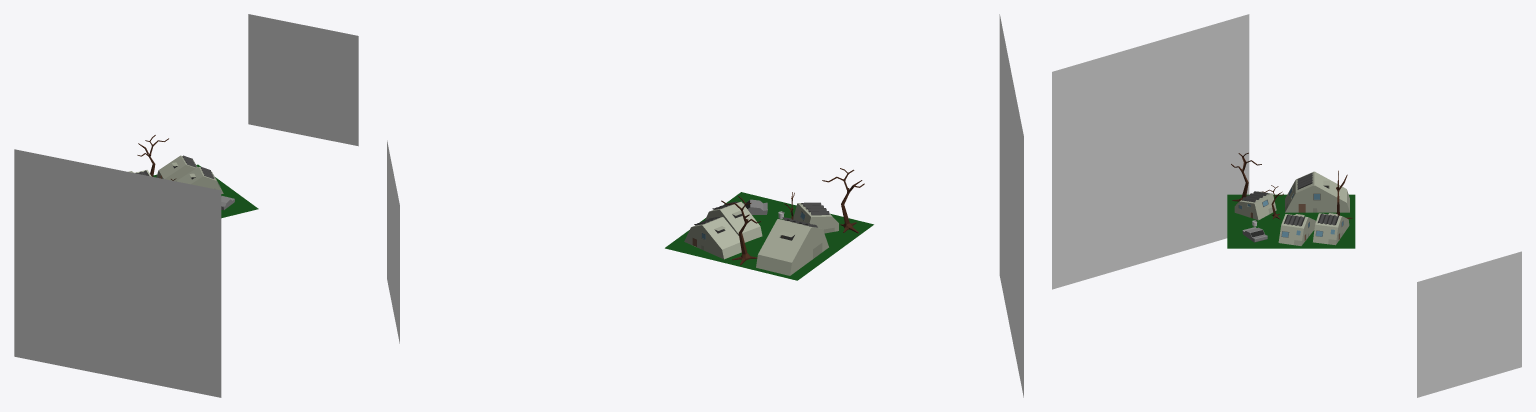
File: apartment_mess.fbx
3 renders of one model, left to right at view 1: azimuth 30°, elevation 25°; view 2: azimuth 150°, elevation 25°; view 3: azimuth 270°, elevation 25°, orthographic. The views are drawn at different scales.
Visible parts, largest first — view 1: Plane.004, Plane.005, Cube.003, Plane, Cube.004; view 2: Plane.004, Plane, Cube, Plane.005, Cube.003, Cube.004, Cube.001; view 3: Plane.004, Plane.005, Plane, Cube, Cube.004, Cube.003, Cube.001.
Part boxes in pixels (bbox=[...]): Plane.004: bbox=[14, 149, 221, 397]; Plane.005: bbox=[248, 14, 358, 146]; Cube.003: bbox=[156, 155, 197, 181]; Plane: bbox=[153, 164, 258, 218]; Cube.004: bbox=[176, 166, 223, 193]; Plane.004: bbox=[999, 14, 1023, 397]; Plane: bbox=[665, 192, 873, 280]; Cube: bbox=[756, 217, 828, 275]; Plane.005: bbox=[387, 140, 399, 343]; Cube.003: bbox=[684, 217, 741, 259]; Cube.004: bbox=[705, 201, 762, 242]; Cube.001: bbox=[793, 202, 838, 233]; Plane.004: bbox=[1052, 14, 1249, 289]; Plane.005: bbox=[1417, 251, 1521, 397]; Plane: bbox=[1227, 194, 1355, 248]; Cube: bbox=[1285, 171, 1349, 212]; Cube.004: bbox=[1278, 214, 1315, 245]; Cube.003: bbox=[1313, 213, 1349, 245]; Cube.001: bbox=[1234, 191, 1276, 220].
Size of the model in its own units: 804 by 376 by 735.
